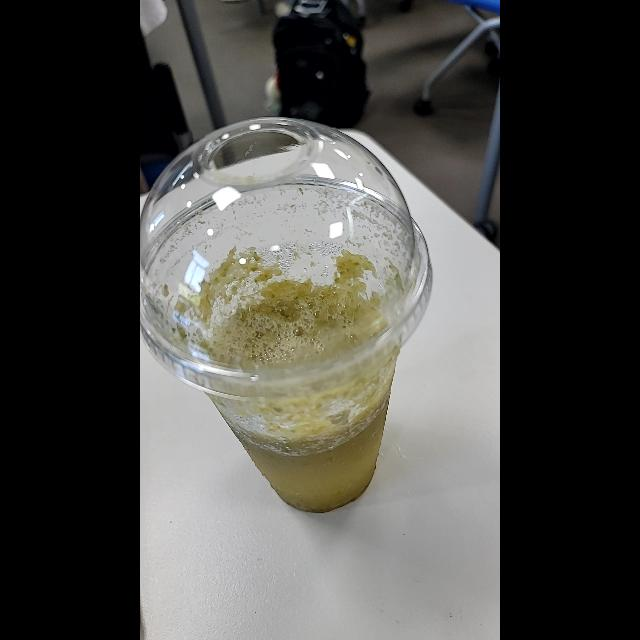plastic_cup: (148, 110, 452, 518)
plastic_cup_lid: (145, 114, 435, 400)
